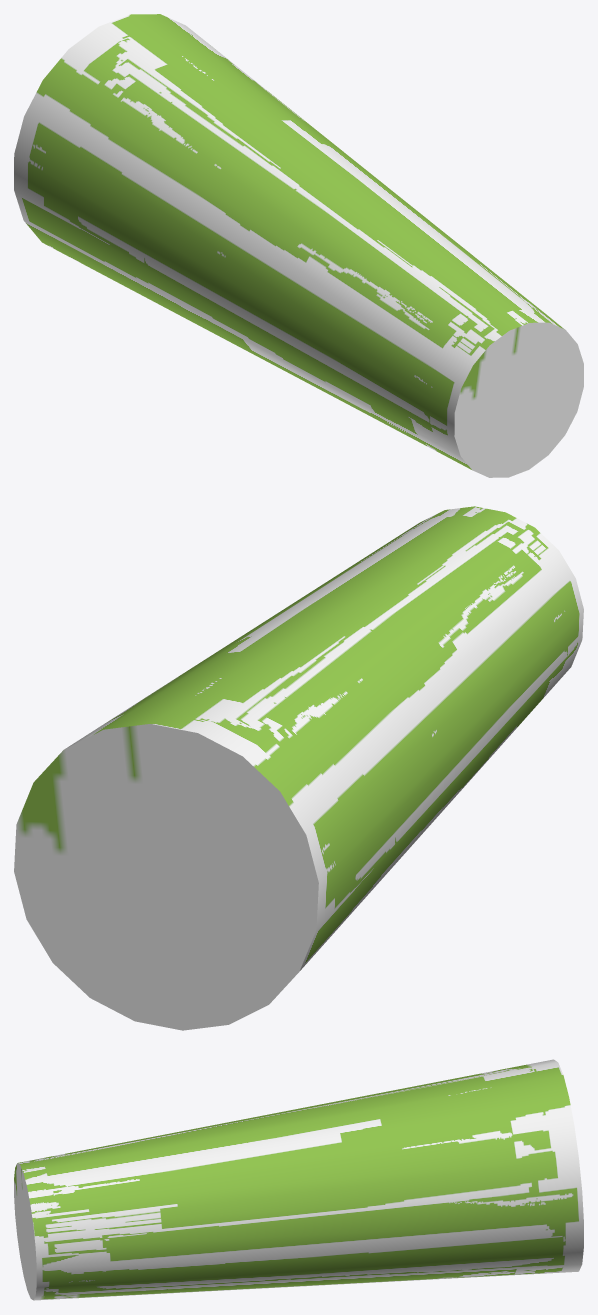
Rendered from locus POPO.fbx.
3 renders of one model, top to bottom at view 1: azimuth 30°, elevation 25°; view 2: azimuth 150°, elevation 25°; view 3: azimuth 270°, elevation 25°, orthographic. The views are drawn at different scales.
Parts seen in each view (by area): view 1: popolocus; view 2: popolocus; view 3: popolocus.
Part boxes in pixels (box(x1,y1,x2,y2)): popolocus: box(14, 14, 583, 477); popolocus: box(14, 506, 583, 1030); popolocus: box(14, 1059, 583, 1300).
Bounding box in the file's own units: 9.94 × 8.72 × 23.18.
